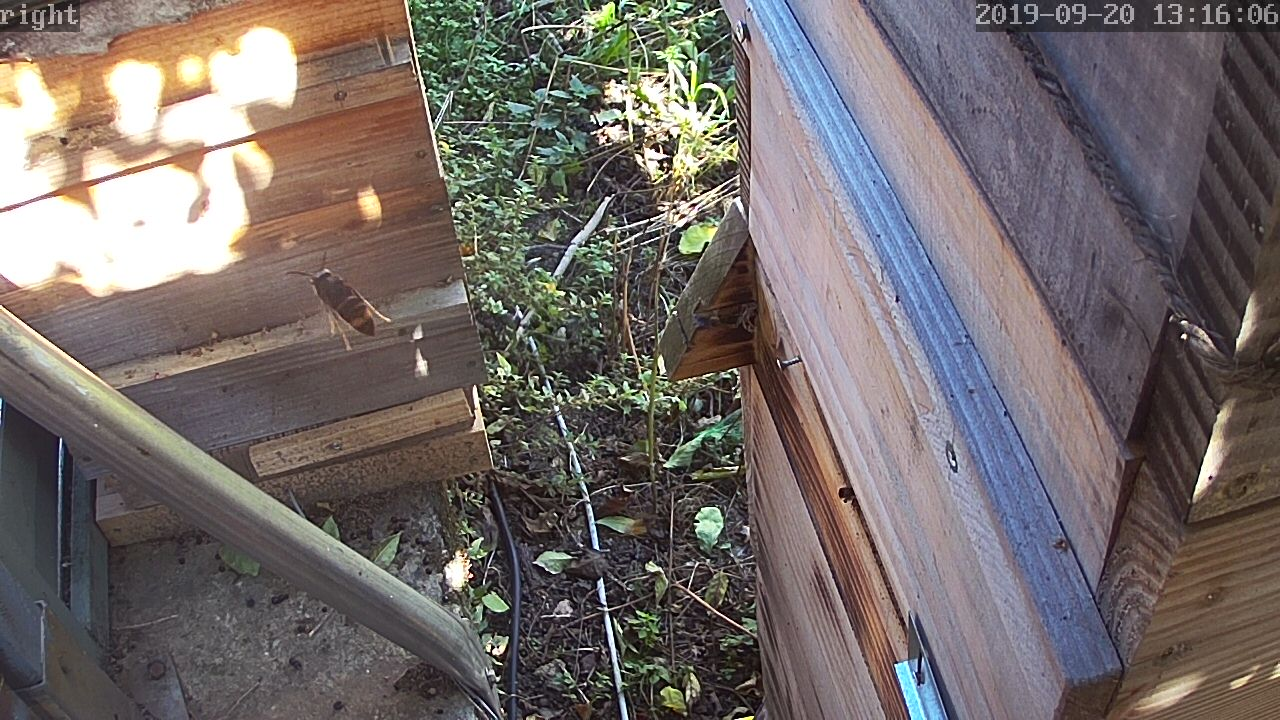hornet: (21, 16, 1249, 720)
